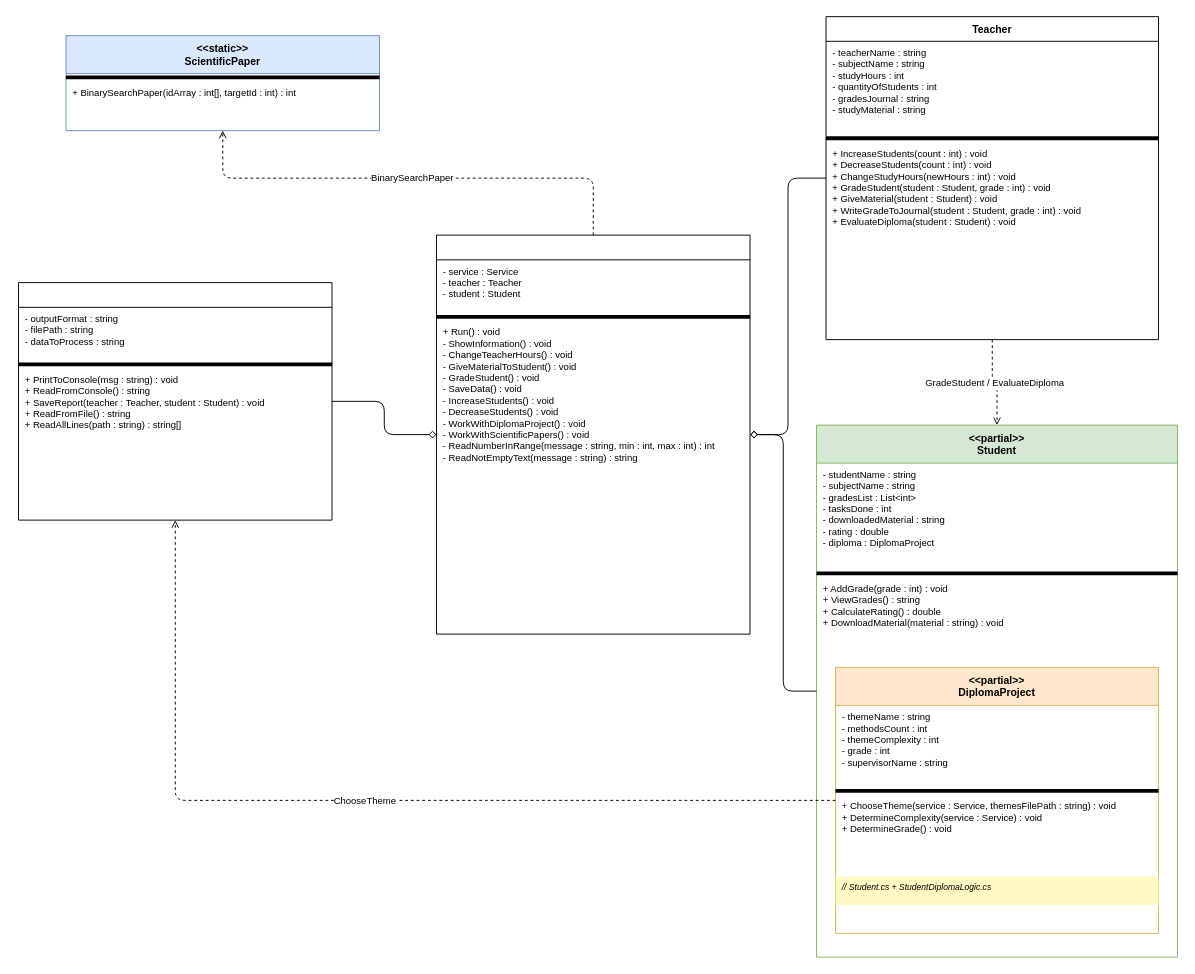
The diagram is 1195 pixels wide and 974 high, and some of its shapes have lost their labels. Each missing label, with the box of its shape:
Menu: (436, 234, 750, 634)
Service: (18, 282, 332, 520)
